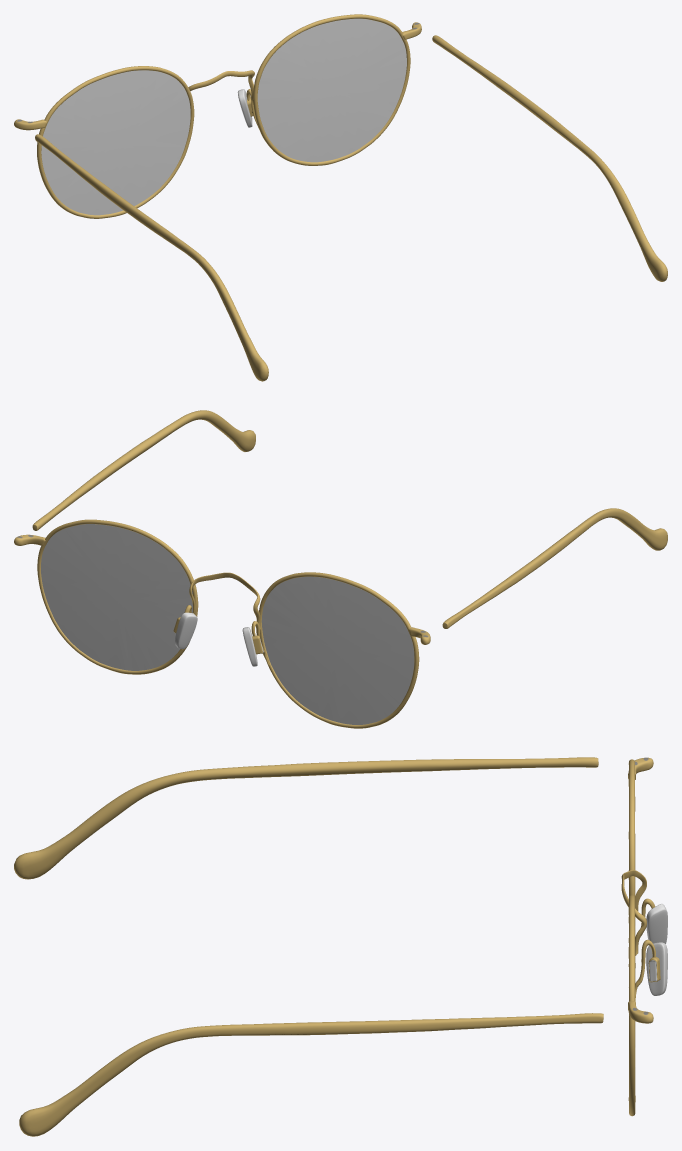
The model's file is eyeglasses09.fbx.
3 renders of one model, top to bottom at view 1: azimuth 30°, elevation 25°; view 2: azimuth 150°, elevation 25°; view 3: azimuth 270°, elevation 25°, orthographic. The views are drawn at different scales.
Visible parts, largest first — view 1: MOSCOT_ZEV_TT_SE, Temples, Rims; view 2: MOSCOT_ZEV_TT_SE, Temples, Rims, NosePars, Bridge, EndPieces; view 3: Temples, Rims, NosePars, Bridge, EndPieces.
Part boxes in pixels (left/top/right/bottom): MOSCOT_ZEV_TT_SE: left=41, top=18, right=406, bottom=215; Temples: left=35, top=35, right=667, bottom=381; Rims: left=37, top=14, right=410, bottom=218; MOSCOT_ZEV_TT_SE: left=41, top=524, right=414, bottom=724; Temples: left=32, top=410, right=667, bottom=628; Rims: left=37, top=519, right=419, bottom=728; NosePars: left=173, top=605, right=269, bottom=666; Bridge: left=189, top=572, right=260, bottom=629; EndPieces: left=14, top=534, right=430, bottom=644; Temples: left=14, top=757, right=603, bottom=1136; Rims: left=628, top=759, right=635, bottom=1116; NosePars: left=635, top=898, right=667, bottom=1001; Bridge: left=621, top=870, right=646, bottom=955; EndPieces: left=628, top=757, right=653, bottom=1023.
Size of the model in its own units: 14.82 by 4.97 by 15.38.
Materials: 6 (5 with a texture image).
